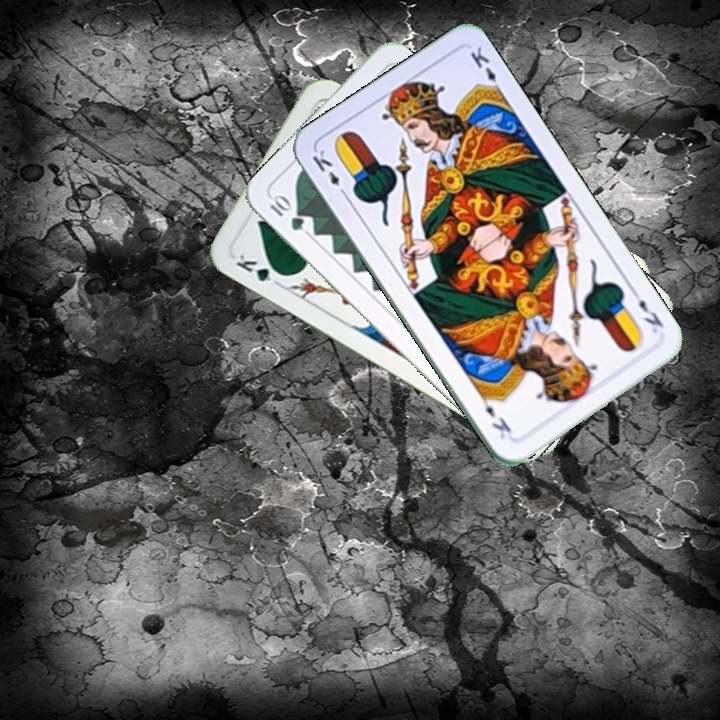EK: (308, 145, 351, 200), (627, 285, 666, 336)
G10: (265, 191, 307, 234)
GK: (231, 250, 288, 290)
